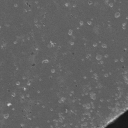corrosion: (56, 96, 66, 104), (88, 92, 97, 100), (66, 28, 74, 36), (95, 53, 103, 61), (102, 71, 110, 79), (78, 19, 85, 27), (6, 101, 13, 109), (100, 43, 108, 50), (42, 57, 50, 64), (68, 39, 75, 47), (49, 67, 56, 75), (2, 112, 10, 119), (114, 11, 121, 18), (48, 40, 55, 47), (87, 20, 93, 27), (64, 1, 70, 8), (92, 41, 98, 48), (26, 81, 33, 87), (11, 91, 17, 98), (15, 80, 21, 86)
